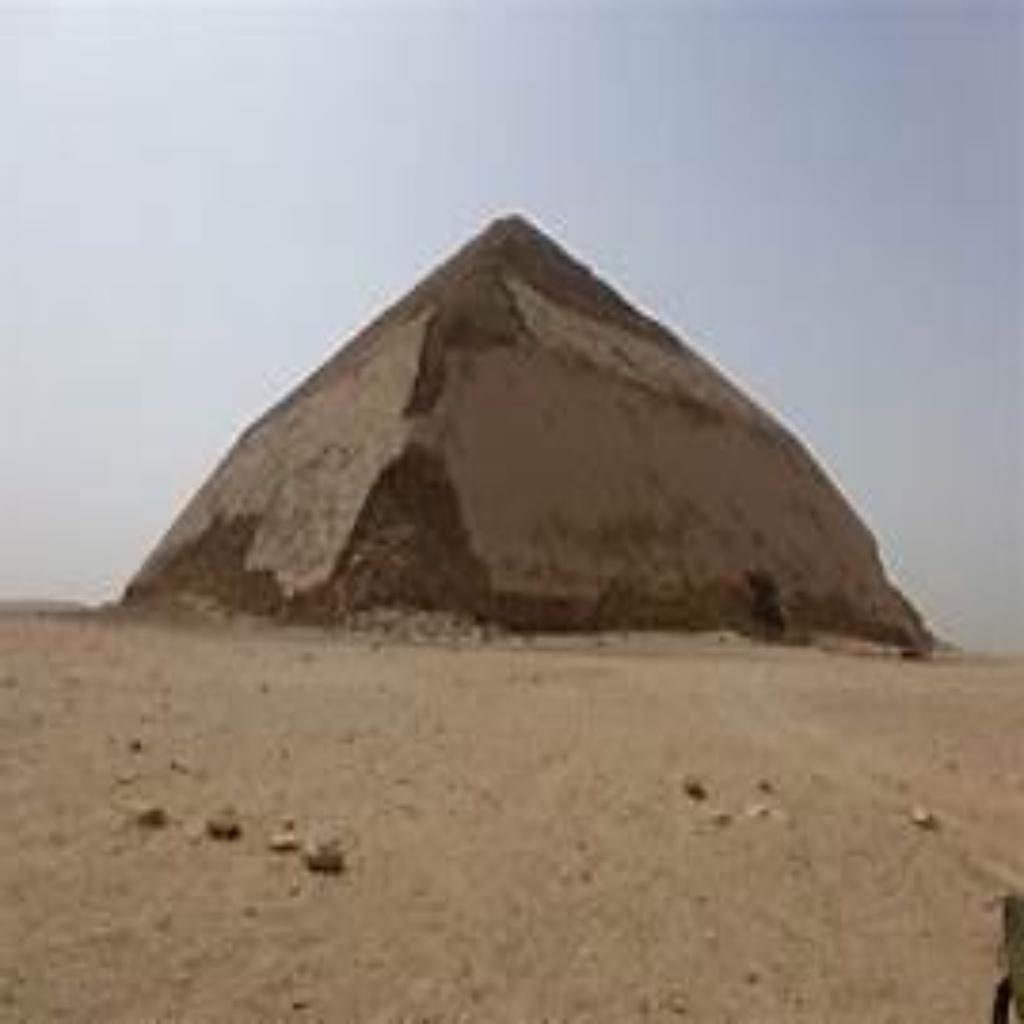Bent Pyramid of King Sneferu: (114, 199, 948, 652)
